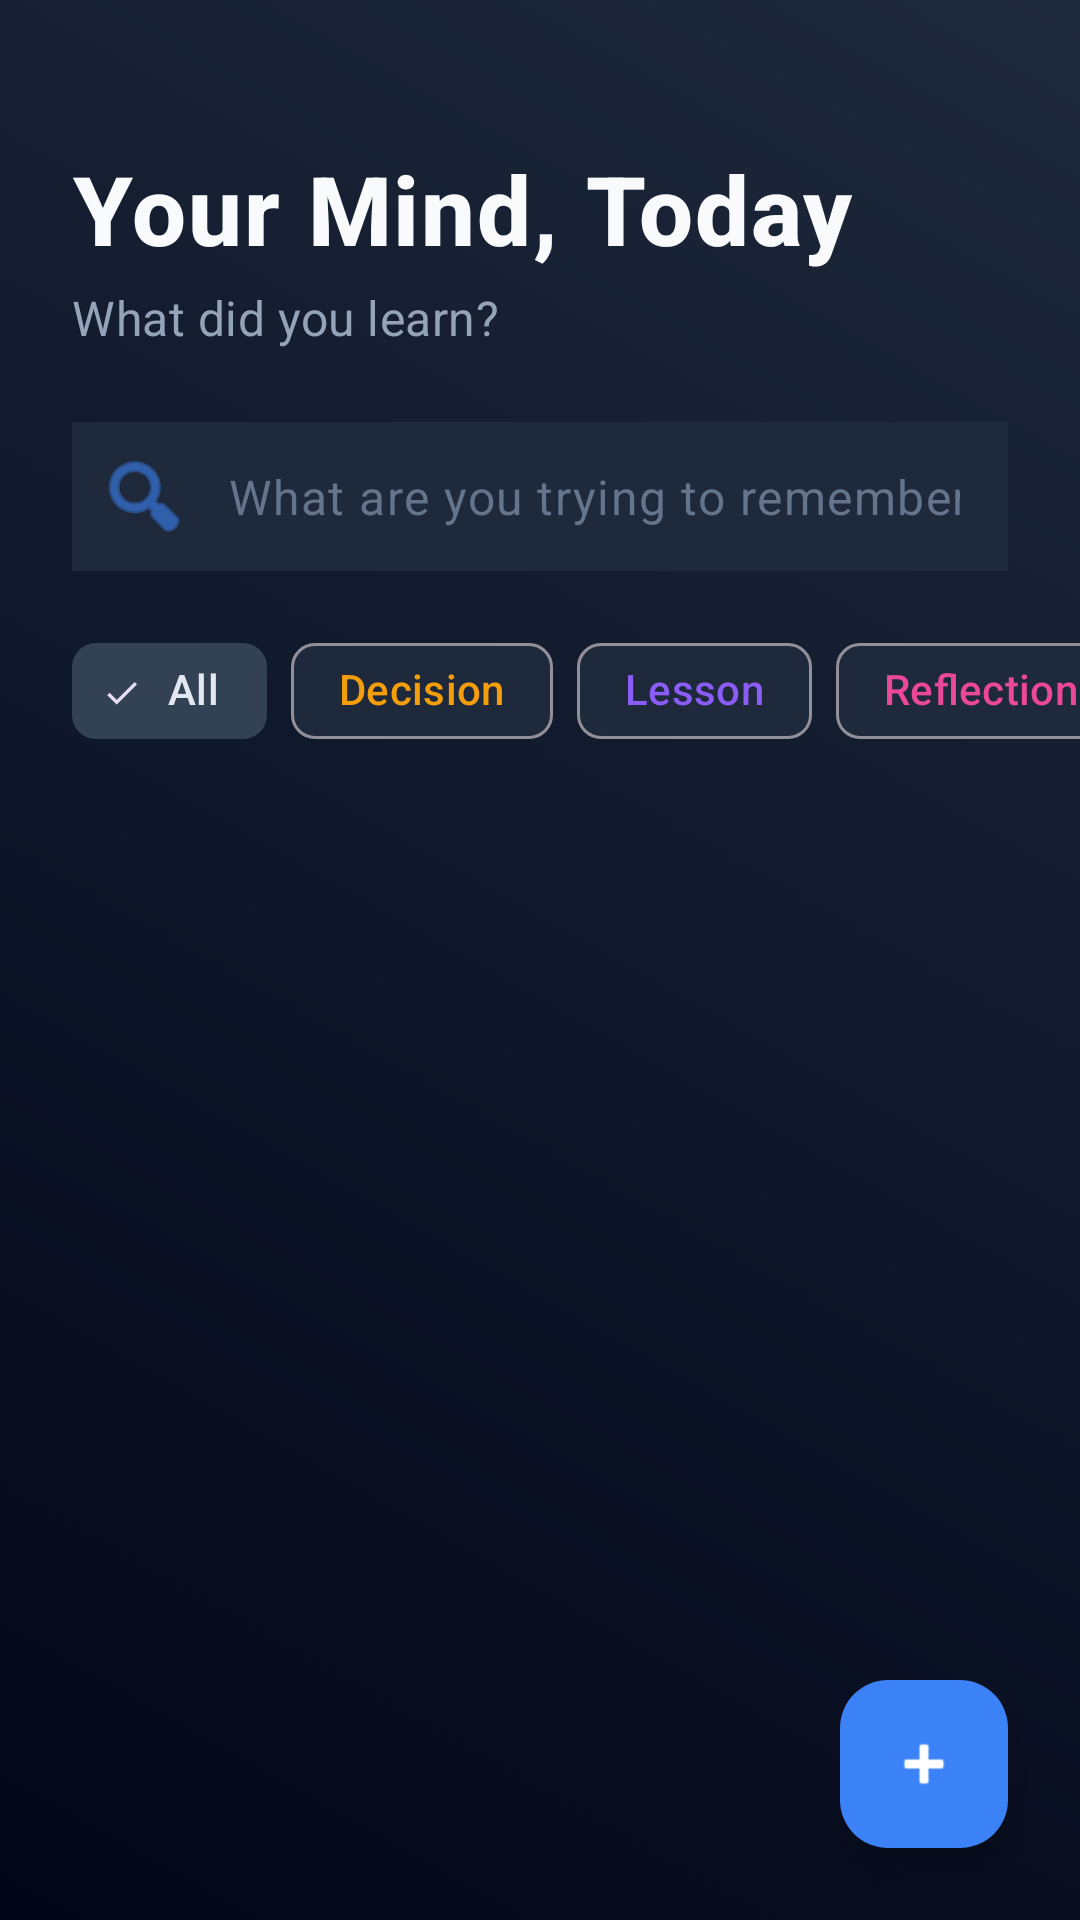

Screen size 1080 x 1920. Icon name, then its center in pixels as (x=x, y=y):
New Thought: (x=924, y=1764)
